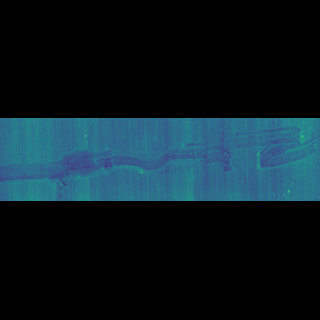Loch: (0, 155, 233, 166), (218, 150, 318, 163)
